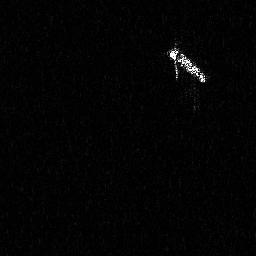ship: (164, 39, 210, 85)
